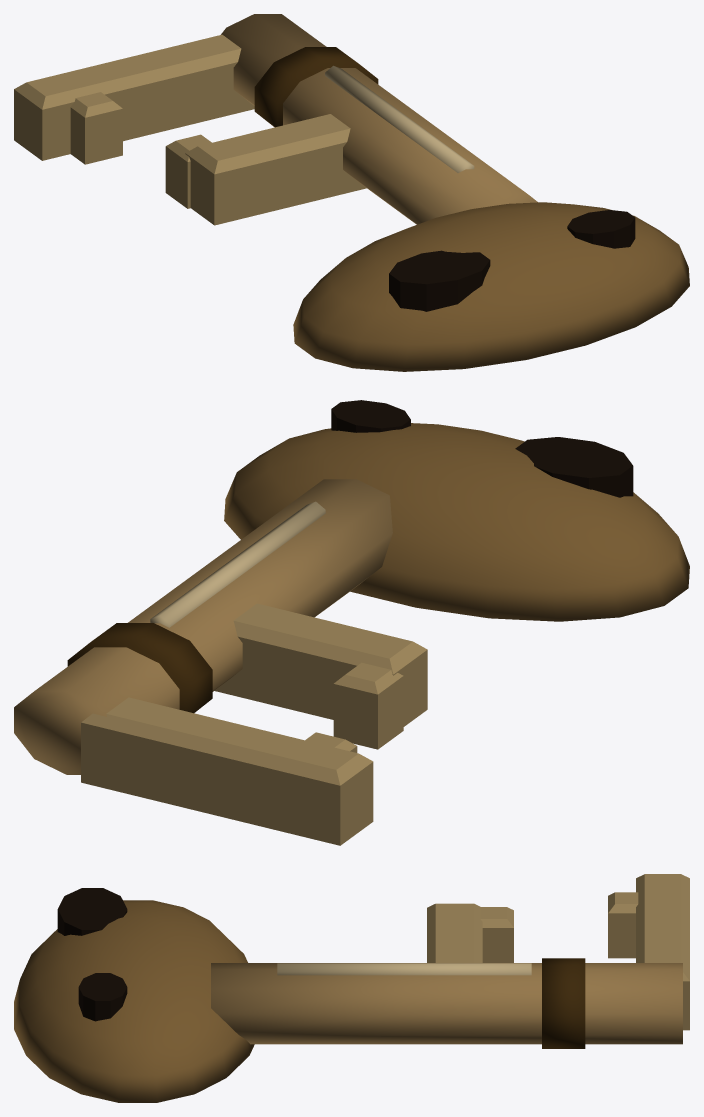
Rendered from tyrian10-243.glb.
The picture shows the model from 3 angles, top to bottom: view 1: azimuth 30°, elevation 25°; view 2: azimuth 150°, elevation 25°; view 3: azimuth 270°, elevation 25°; orthographic projection. The views are drawn at different scales.
Parts seen in each view (by area): view 1: tyrian10-243, tyrian10-243_flat; view 2: tyrian10-243, tyrian10-243_flat; view 3: tyrian10-243, tyrian10-243_flat.
Boxes of the visible parts, box(x1,y1,x2,y2) form: tyrian10-243: box(221, 14, 689, 371); tyrian10-243_flat: box(14, 34, 635, 311); tyrian10-243: box(14, 423, 689, 774); tyrian10-243_flat: box(81, 400, 633, 845); tyrian10-243: box(14, 900, 682, 1102); tyrian10-243_flat: box(57, 874, 689, 1030).
Size of the model in its own units: 0.9938 by 0.2108 by 1.62.
